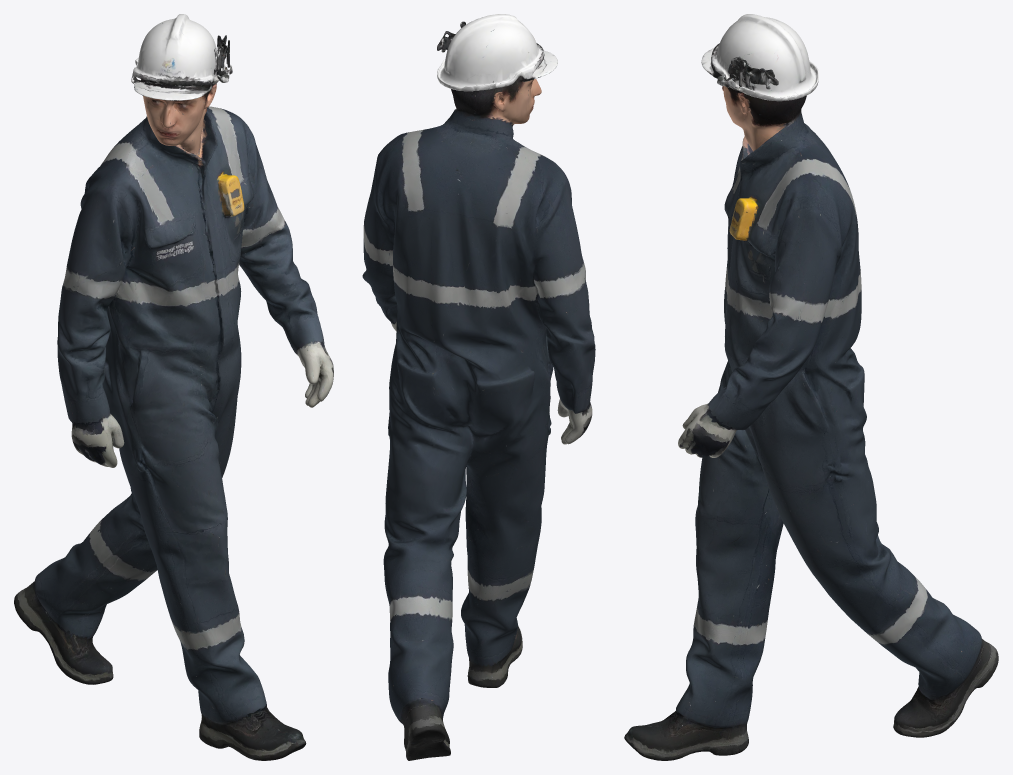
File: safety-worker.glb
3 views of the same model, side by side, from view 1: azimuth 30°, elevation 25°; view 2: azimuth 150°, elevation 25°; view 3: azimuth 270°, elevation 25° (orthographic). The views are drawn at different scales.
Parts seen in each view (by area): view 1: Object_5; view 2: Object_5; view 3: Object_5.
Part boxes in pixels (left/top/right/bottom): Object_5: left=14, top=14, right=333, bottom=760; Object_5: left=362, top=14, right=595, bottom=760; Object_5: left=624, top=14, right=998, bottom=760.
Size of the model in its own units: 0.669 by 1.9 by 0.8967.
1 material, 1 textured.
